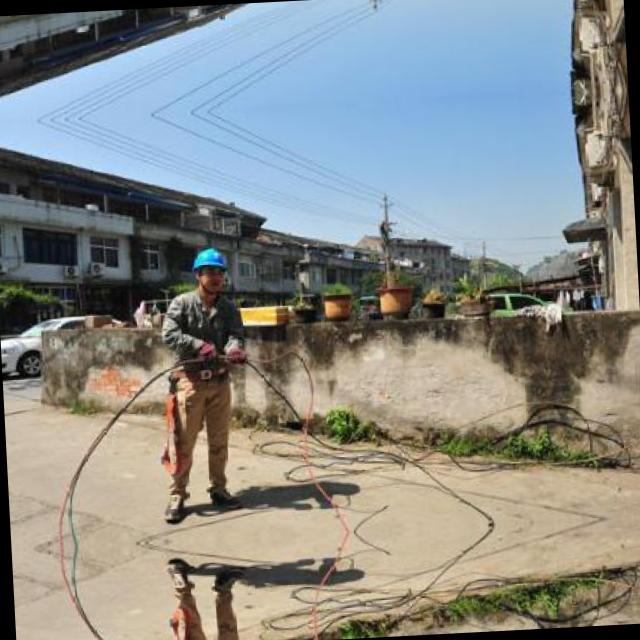helmet: (186, 241, 232, 296)
